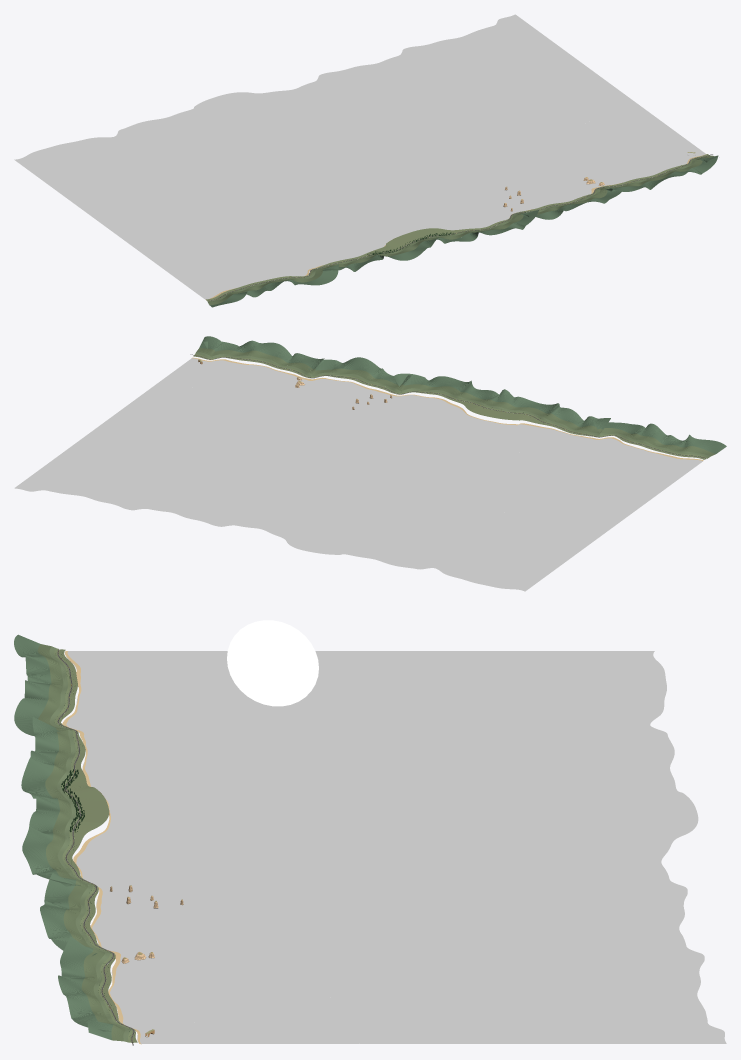
The model's file is greatocean.glb.
3 views of the same model, one above another, from view 1: azimuth 30°, elevation 25°; view 2: azimuth 150°, elevation 25°; view 3: azimuth 270°, elevation 25° (orthographic). The views are drawn at different scales.
Visible parts, largest first — view 1: SouthernOcean_021, SouthernOcean_035, SouthernOcean_015, SouthernOcean_009, SouthernOcean_028, SouthernOcean_027, SouthernOcean_003, SouthernOcean_007, SouthernOcean_034, SouthernOcean_014, SouthernOcean_002, SouthernOcean_001 (+11 smaller); view 2: SouthernOcean_021, SouthernOcean_035, SouthernOcean_015, SouthernOcean_009, SouthernOcean_028, SouthernOcean_027, SouthernOcean_003, SouthernOcean_007, SouthernOcean_034, SouthernOcean_014, SouthernOcean_002, SouthernOcean_001 (+16 smaller); view 3: SouthernOcean_021, SouthernOcean_035, SouthernOcean_015, SouthernOcean_009, SouthernOcean_028, SouthernOcean_027, SouthernOcean_003, SouthernOcean_007, SouthernOcean_034, SouthernOcean_014, SouthernOcean_008, SouthernOcean_011 (+25 smaller).
Part boxes in pixels (box(x1,y1,x2,y2)): SouthernOcean_021: box(256, 70, 514, 220); SouthernOcean_035: box(454, 14, 703, 158); SouthernOcean_015: box(199, 92, 429, 233); SouthernOcean_009: box(126, 112, 345, 262); SouthernOcean_028: box(383, 43, 612, 187); SouthernOcean_027: box(343, 61, 593, 194); SouthernOcean_003: box(40, 140, 260, 285); SouthernOcean_007: box(81, 134, 314, 274); SouthernOcean_034: box(432, 38, 688, 164); SouthernOcean_014: box(188, 104, 405, 240); SouthernOcean_002: box(26, 150, 243, 289); SouthernOcean_001: box(14, 156, 228, 295); SouthernOcean_021: box(201, 395, 419, 539); SouthernOcean_035: box(15, 358, 208, 497); SouthernOcean_015: box(286, 415, 486, 554); SouthernOcean_009: box(357, 432, 575, 568); SouthernOcean_028: box(108, 376, 307, 511); SouthernOcean_027: box(165, 379, 330, 520); SouthernOcean_003: box(457, 450, 657, 587); SouthernOcean_007: box(429, 438, 611, 577); SouthernOcean_034: box(89, 360, 231, 502); SouthernOcean_014: box(333, 421, 504, 554); SouthernOcean_002: box(495, 454, 672, 589); SouthernOcean_001: box(513, 457, 690, 591); SouthernOcean_021: box(87, 837, 687, 904); SouthernOcean_035: box(137, 990, 725, 1043); SouthernOcean_015: box(107, 797, 698, 844); SouthernOcean_009: box(86, 738, 674, 781); SouthernOcean_028: box(117, 934, 704, 980); SouthernOcean_027: box(101, 904, 684, 955); SouthernOcean_003: box(79, 673, 666, 704); SouthernOcean_007: box(68, 703, 664, 737); SouthernOcean_034: box(123, 975, 700, 1030); SouthernOcean_014: box(107, 786, 688, 814); SouthernOcean_008: box(84, 728, 668, 748); SouthernOcean_011: box(86, 770, 675, 791).
Size of the model in its own units: 8440 by 1722 by 6310.
